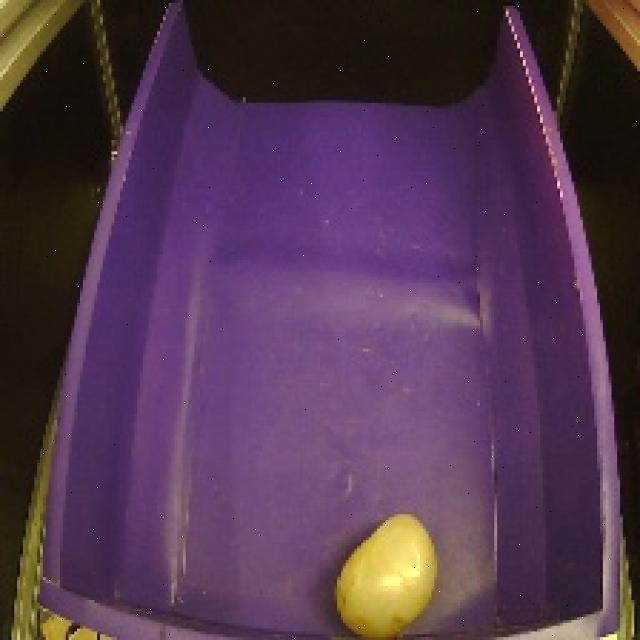cobbles: (321, 503, 442, 640)
